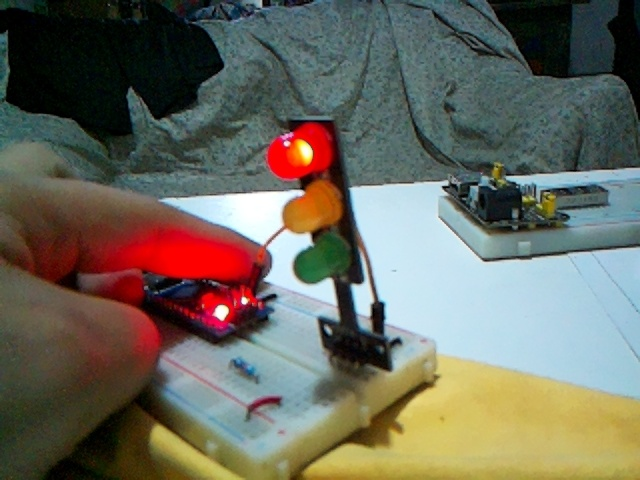traffic_light_red: (266, 118, 398, 370)
